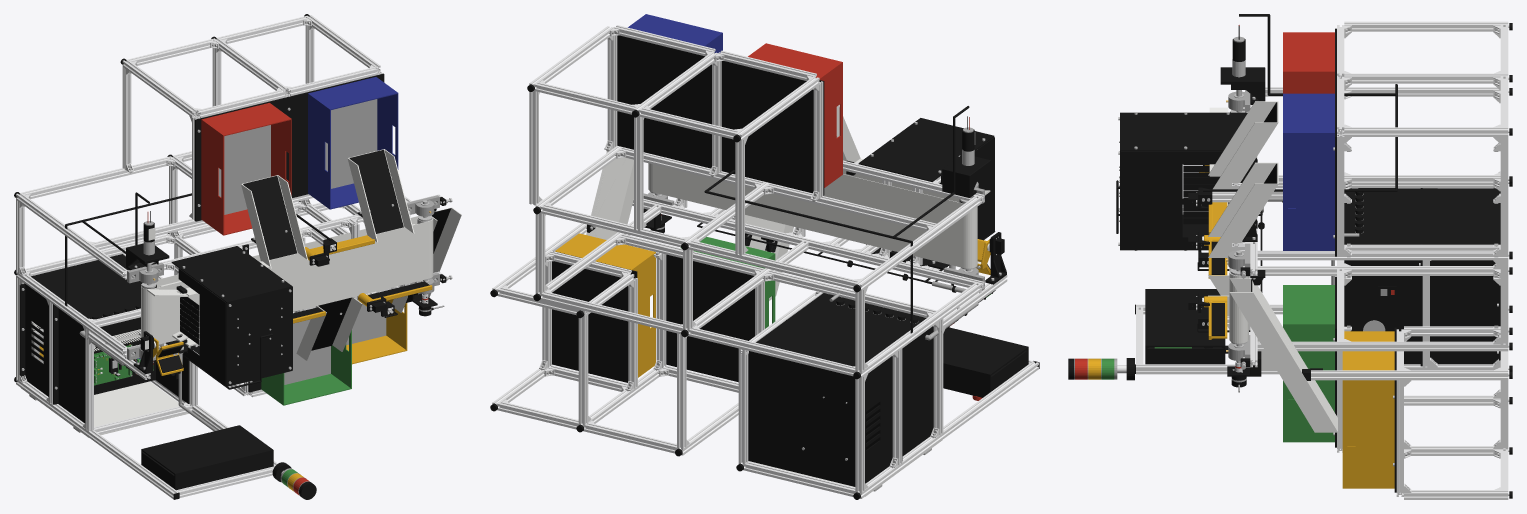
Rendered from machine.min.glb.
The picture shows the model from 3 angles, left to right: view 1: azimuth 30°, elevation 25°; view 2: azimuth 150°, elevation 25°; view 3: azimuth 270°, elevation 25°; orthographic projection. The views are drawn at different scales.
Visible parts, largest first — view 1: static, W, P3, P2; view 2: static; view 3: static, P3, P1.
Boxes of the visible parts, x1,y1,x2,y2 form: static: (14, 14, 461, 499); W: (153, 338, 183, 375); P3: (358, 281, 432, 306); P2: (305, 235, 374, 260); static: (490, 14, 1039, 499); static: (1068, 14, 1512, 499); P3: (1204, 296, 1227, 339); P1: (1204, 235, 1227, 278).
Size of the model in its own units: 1.2 by 1.07 by 1.19.
